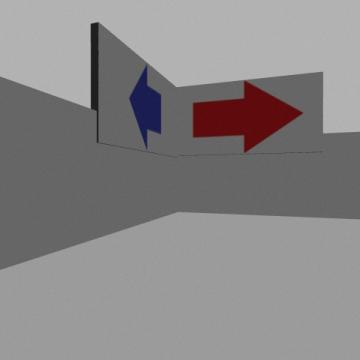blue_left: (129, 65, 161, 148)
red_right: (193, 81, 303, 152)
